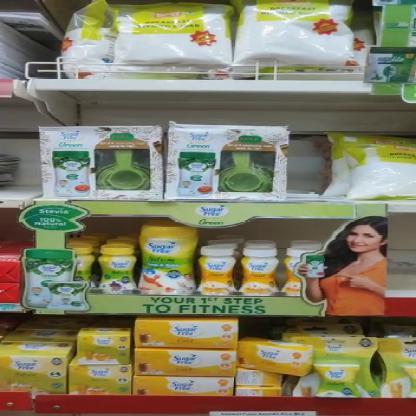SUGAR FREE GOLD POWDER 100GM: (198, 245, 240, 296), (241, 248, 280, 296)
SUGAR FREE NATURA 500 PELLET: (292, 338, 378, 401), (371, 338, 415, 398)
SUGAR FREE NATURA DIET SUGAR 80GM: (140, 225, 198, 294)
SUGAR FREE NATURA SACHET 50: (3, 344, 68, 392), (71, 364, 136, 393), (78, 330, 132, 359)
SUGAR FREE NATURA_ POWDER_CONC_100G: (98, 243, 138, 293)
